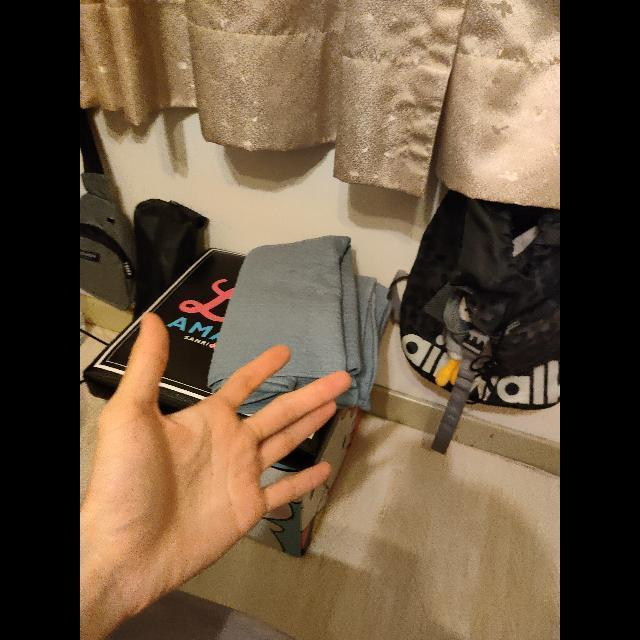bare_hand: (85, 310, 351, 640)
